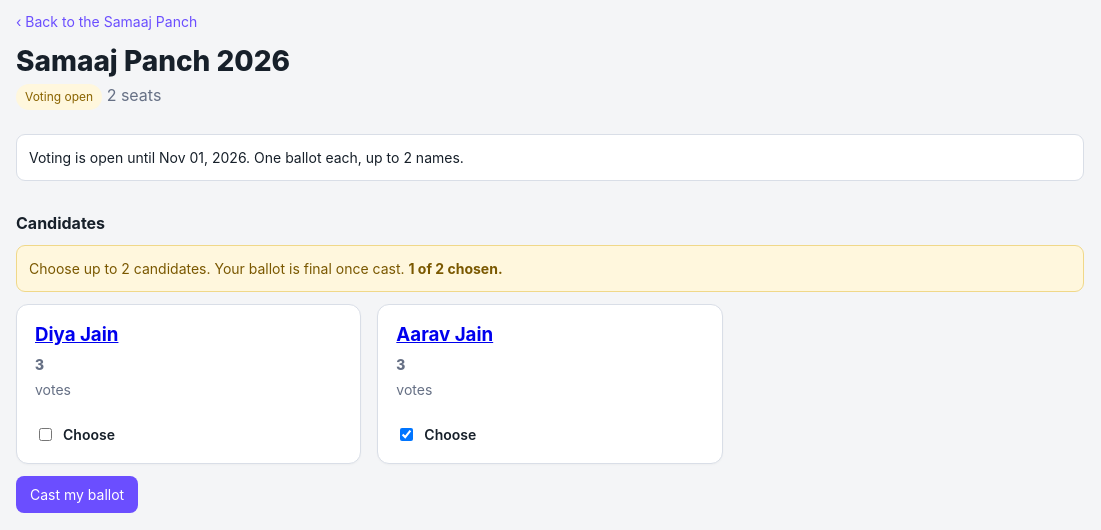
Test case: ElectionComponent › sends the ticked candidates as one ballot, and reloads
Click the button "Cast my ballot" at [77, 495], box [16, 476, 138, 513]
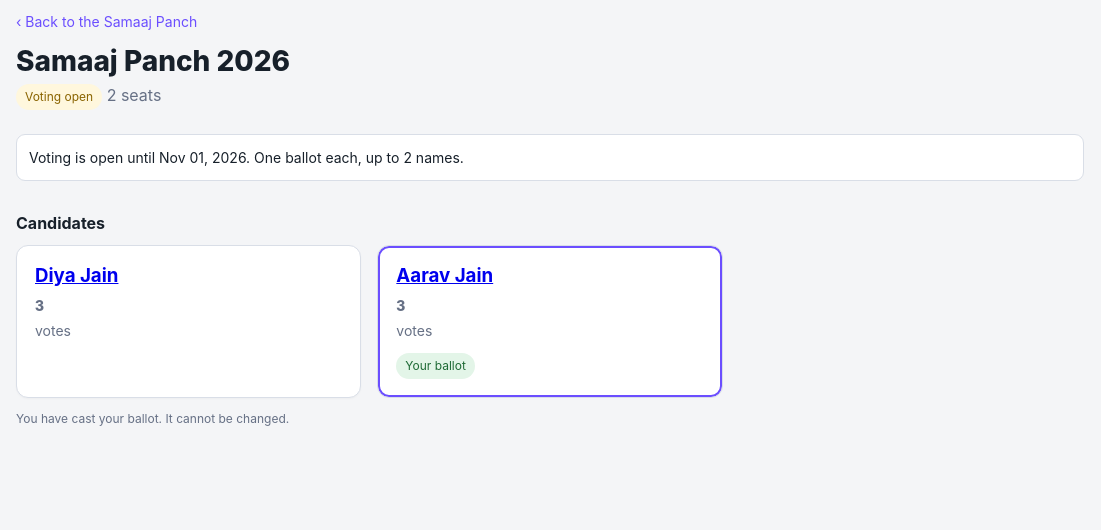
Result: the text "You have cast your ballot" is shown at [16, 411, 289, 426]
